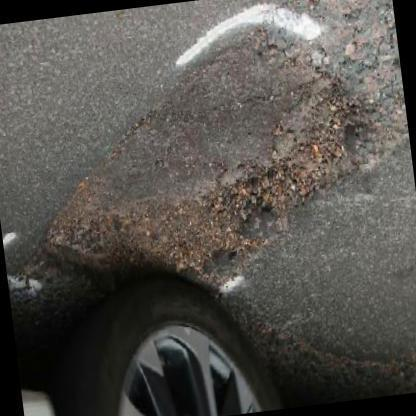pothole: (40, 22, 398, 298)
